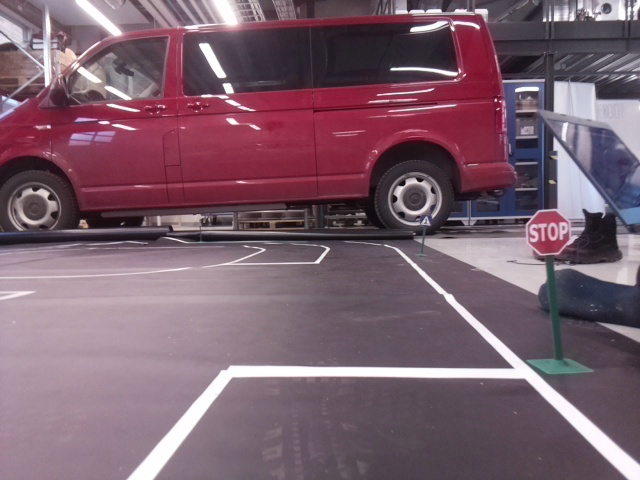Stop: (522, 211, 570, 254)
